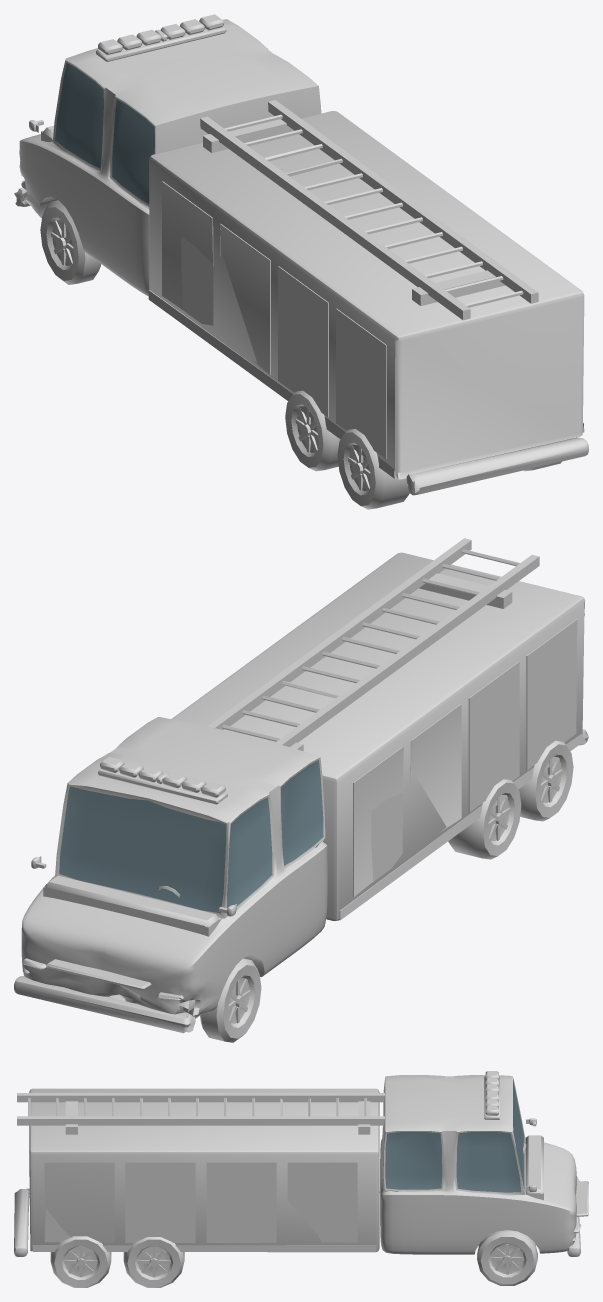
File: car_firetruck_dmg2.glb
The picture shows the model from 3 angles, top to bottom: view 1: azimuth 30°, elevation 25°; view 2: azimuth 150°, elevation 25°; view 3: azimuth 270°, elevation 25°; orthographic projection. The views are drawn at different scales.
Visible parts, largest first — view 1: car_firetruck_dmg2; view 2: car_firetruck_dmg2; view 3: car_firetruck_dmg2.
Part boxes in pixels (<box>): car_firetruck_dmg2: <box>14,14,588,509</box>; car_firetruck_dmg2: <box>14,538,588,1042</box>; car_firetruck_dmg2: <box>14,1071,588,1287</box>.
Bounding box in the file's own units: 2.68 × 3.01 × 9.44.
